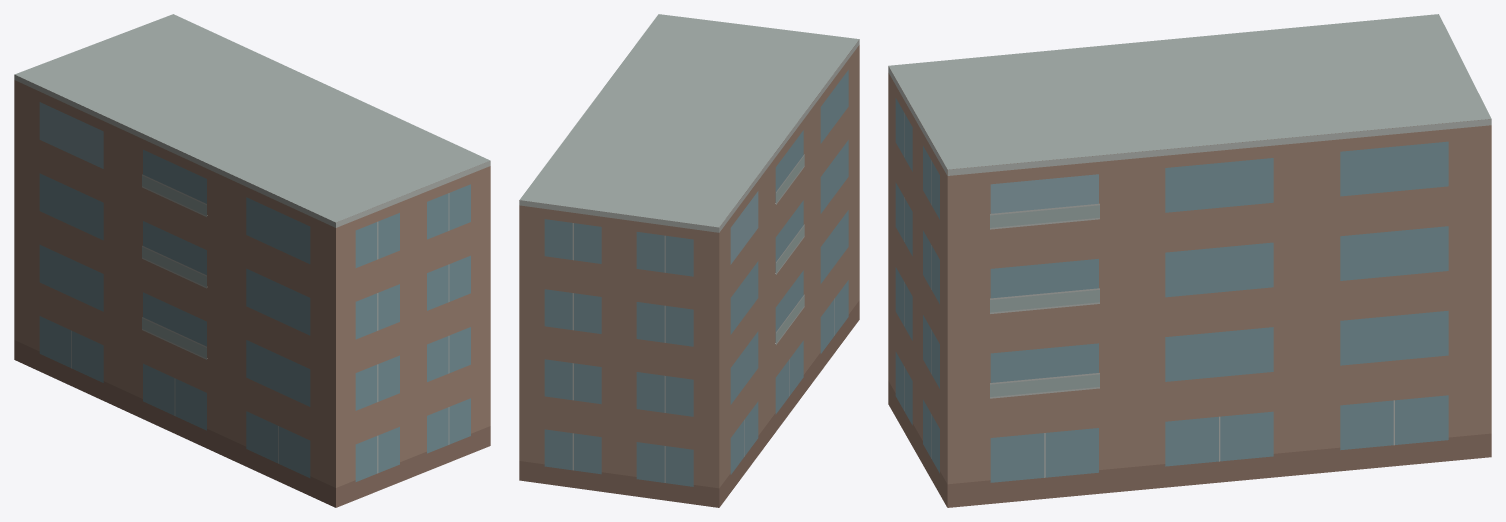
The model's file is survey-upis-32805872.glb.
3 renders of one model, left to right at view 1: azimuth 30°, elevation 25°; view 2: azimuth 150°, elevation 25°; view 3: azimuth 270°, elevation 25°, orthographic. The views are drawn at different scales.
Parts seen in each view (by area): view 1: survey-upis-32805872.tmp; view 2: survey-upis-32805872.tmp; view 3: survey-upis-32805872.tmp.
Boxes of the visible parts, <box> form: survey-upis-32805872.tmp: <box>14,14,490,507</box>; survey-upis-32805872.tmp: <box>519,14,859,507</box>; survey-upis-32805872.tmp: <box>888,14,1491,507</box>.
Size of the model in its own units: 12.69 by 12.85 by 20.78.
